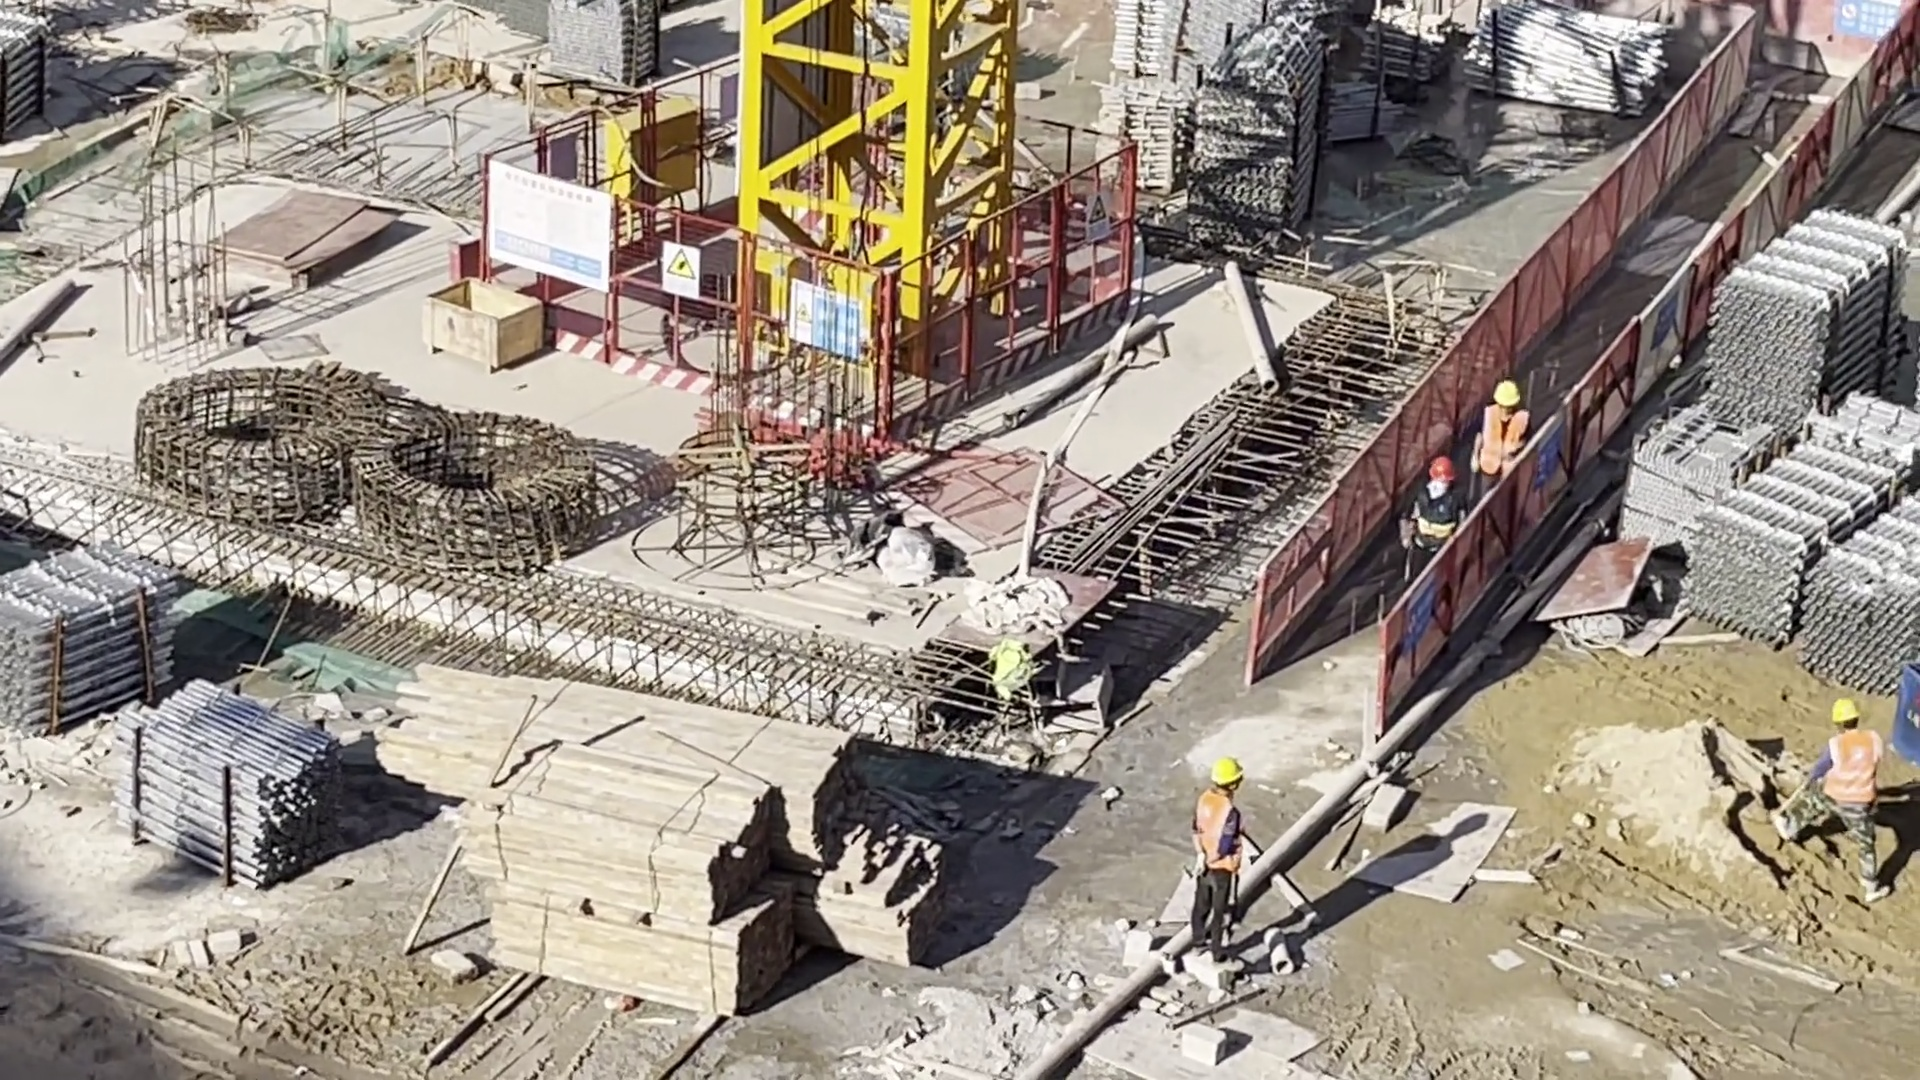board: (213, 195, 393, 285)
ebox: (601, 96, 696, 201)
fence: (1259, 22, 1920, 680)
helmet: (1212, 753, 1239, 787), (1493, 380, 1521, 410), (1832, 699, 1861, 727), (1431, 458, 1454, 481)
person: (1817, 707, 1885, 910), (1192, 753, 1245, 957), (1473, 383, 1533, 496), (1405, 461, 1463, 570)
scaffold: (1692, 430, 1920, 688), (1105, 1, 1308, 231), (116, 679, 340, 880), (1708, 214, 1901, 424), (1, 549, 175, 720), (1473, 4, 1659, 118), (550, 1, 654, 89), (1, 7, 56, 139), (1367, 7, 1448, 79)
slogan: (788, 282, 868, 353), (1831, 1, 1906, 50), (1535, 411, 1566, 493), (659, 243, 700, 300), (1411, 576, 1433, 646), (1089, 192, 1109, 241)
vest: (1825, 734, 1883, 807), (1194, 800, 1238, 868), (1481, 414, 1525, 469), (1196, 793, 1202, 807)
wood: (401, 681, 851, 874), (488, 753, 786, 1010)
